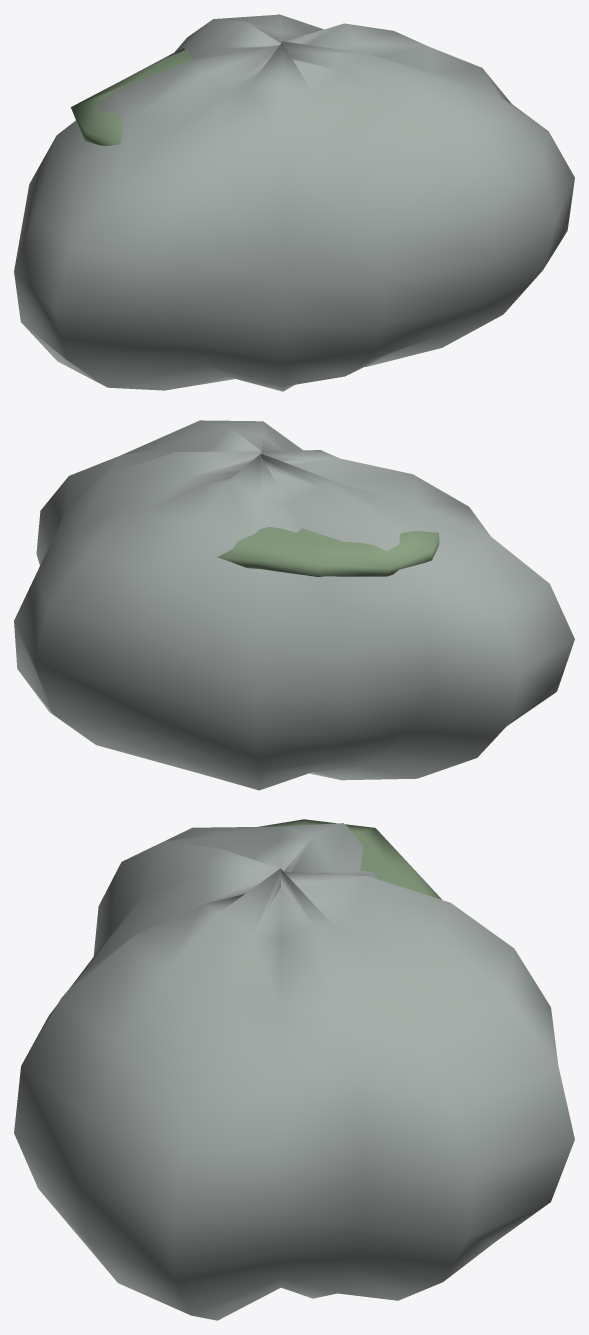
File: SM_Rock_01_UV_0124.fbx
3 views of the same model, one above another, from view 1: azimuth 30°, elevation 25°; view 2: azimuth 150°, elevation 25°; view 3: azimuth 270°, elevation 25° (orthographic). The views are drawn at different scales.
Parts seen in each view (by area): view 1: SM_Rock_01_UV_0124; view 2: SM_Rock_01_UV_0124; view 3: SM_Rock_01_UV_0124.
Boxes of the visible parts, box(x1,y1,x2,y2) form: SM_Rock_01_UV_0124: box(14, 14, 574, 391); SM_Rock_01_UV_0124: box(14, 420, 574, 790); SM_Rock_01_UV_0124: box(14, 819, 574, 1320).
Bounding box in the file's own units: 933 × 702 × 558.
